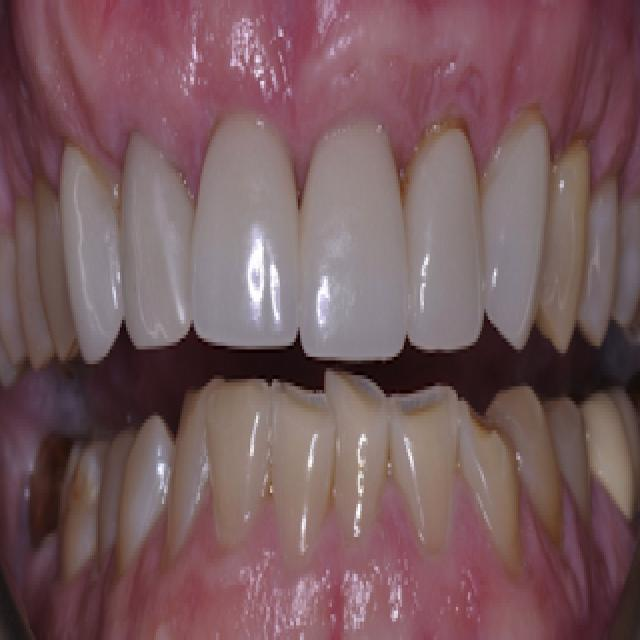tooth: (298, 125, 406, 357), (190, 118, 296, 353), (404, 125, 484, 357), (482, 114, 556, 349), (116, 121, 190, 353), (262, 379, 338, 574), (198, 372, 272, 556), (62, 136, 122, 357), (444, 404, 522, 574), (390, 368, 456, 559), (496, 379, 570, 548), (538, 132, 590, 360), (156, 376, 224, 544), (324, 379, 388, 555), (112, 408, 174, 570), (34, 158, 80, 357), (538, 383, 594, 537), (572, 394, 636, 526), (14, 191, 52, 375), (580, 176, 620, 350), (60, 412, 98, 588), (606, 162, 638, 357), (102, 416, 130, 581), (2, 236, 30, 386), (618, 386, 636, 460), (2, 346, 22, 390)
